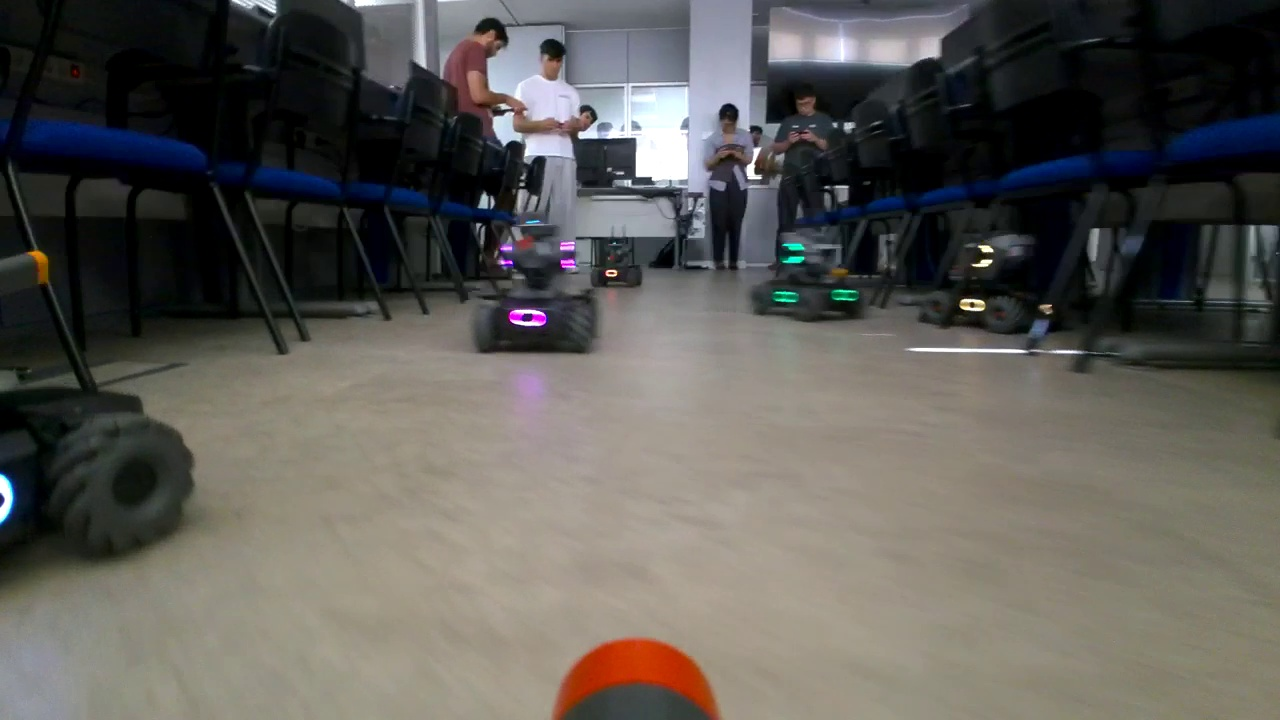robot: (1, 248, 197, 561), (472, 203, 597, 354), (928, 231, 1073, 332), (748, 222, 866, 326), (594, 228, 645, 286)
